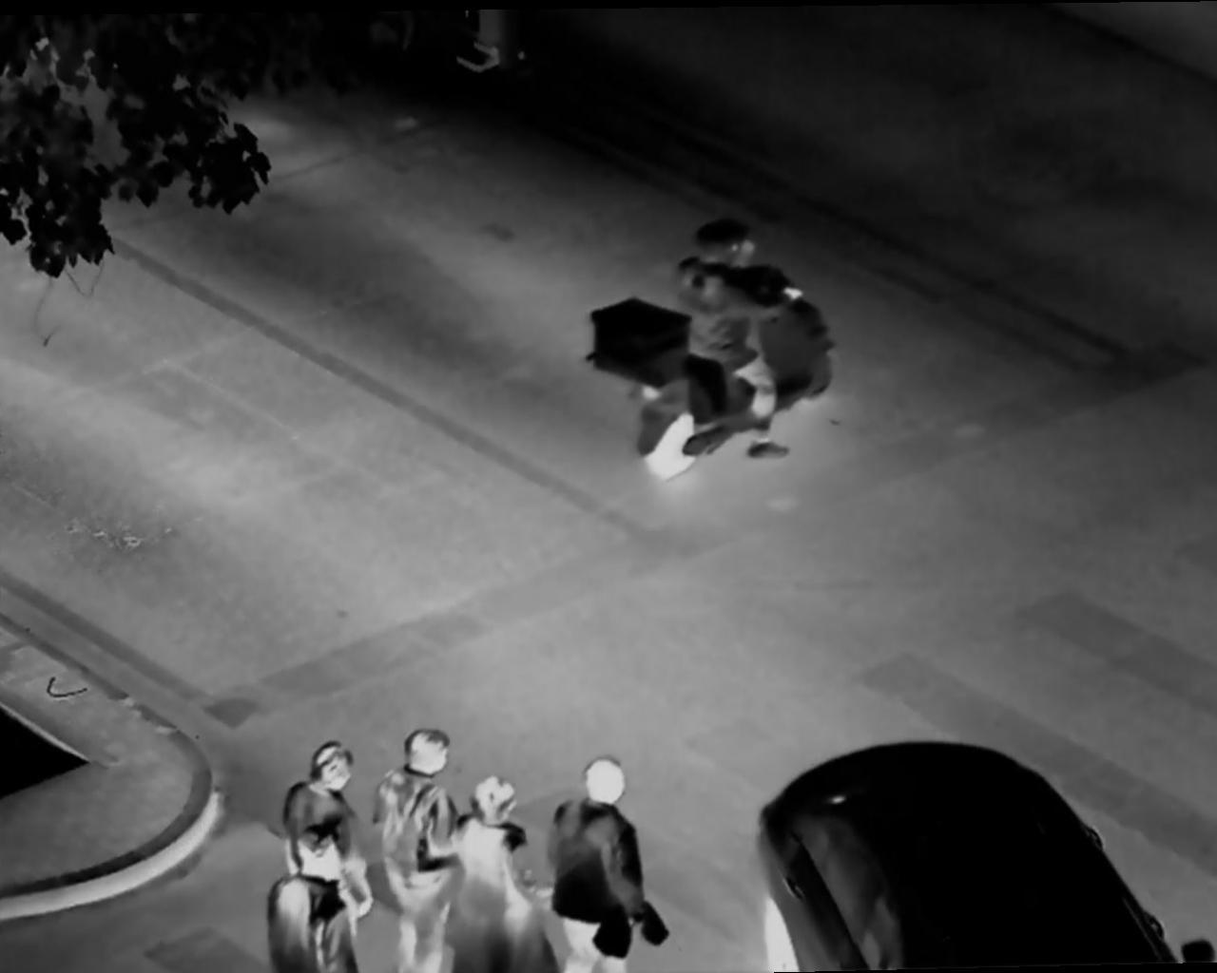person: (674, 218, 784, 463), (552, 758, 671, 968), (383, 726, 460, 968), (465, 773, 544, 973), (274, 820, 359, 973), (290, 744, 364, 852)
